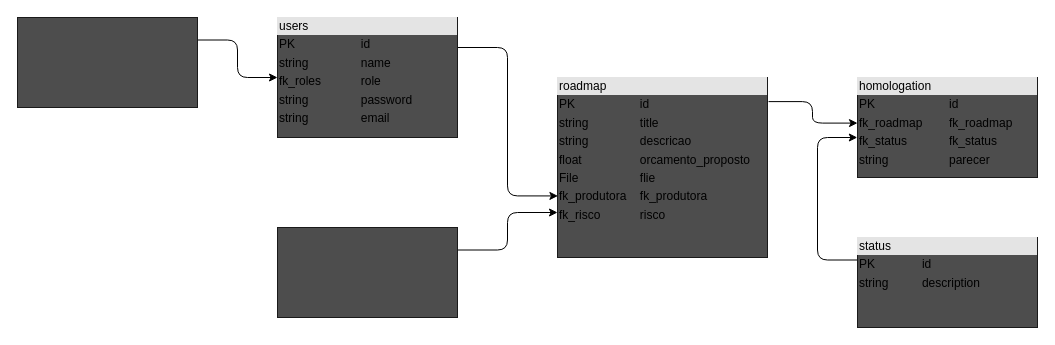
Image size: 1055x345. Some labels were removed from this diagram. Each missing label, with the centre of its shape:
"risk PK id string description" belongs at pixel 367 272.
"roles PK id string description" belongs at pixel 107 62.
